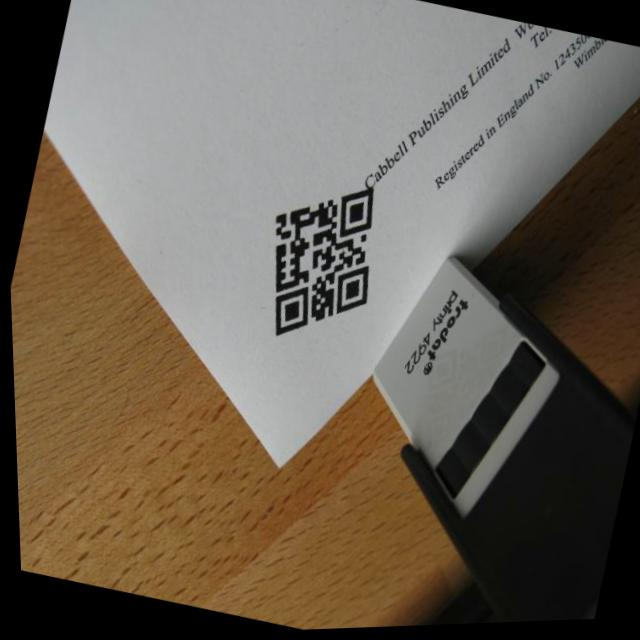qrcode: (244, 168, 393, 358)
